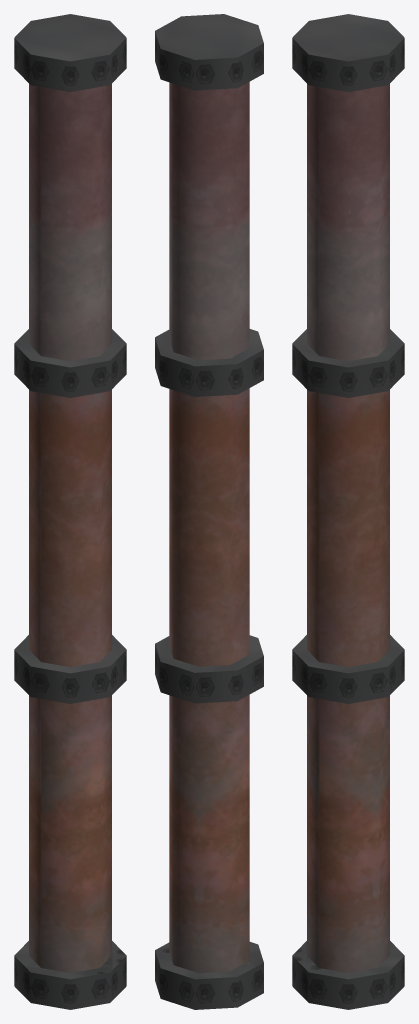
File: Pipe.obj
3 renders of one model, left to right at view 1: azimuth 90°, elevation 25°; view 2: azimuth 210°, elevation 25°; view 3: azimuth 270°, elevation 25°, orthographic.
Parts seen in each view (by area): view 1: Circle; view 2: Circle; view 3: Circle.
Boxes of the visible parts, bbox=[...] form: Circle: bbox=[14, 14, 126, 1009]; Circle: bbox=[155, 14, 263, 1009]; Circle: bbox=[292, 14, 404, 1009].
Bounding box in the file's own units: 0.33 × 3.07 × 0.33.
2 materials, 2 textured.
